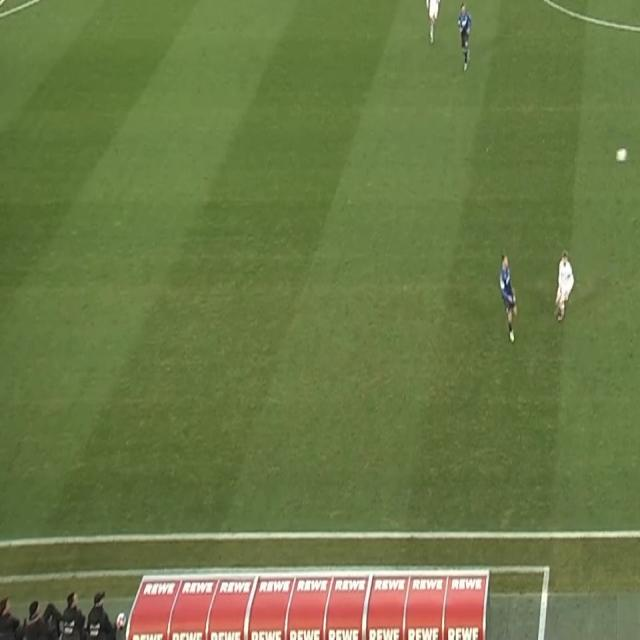ball: (616, 146, 629, 164)
